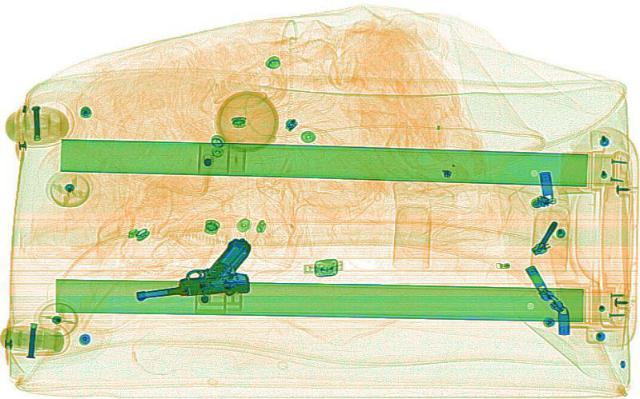Gun: (117, 234, 291, 325)
